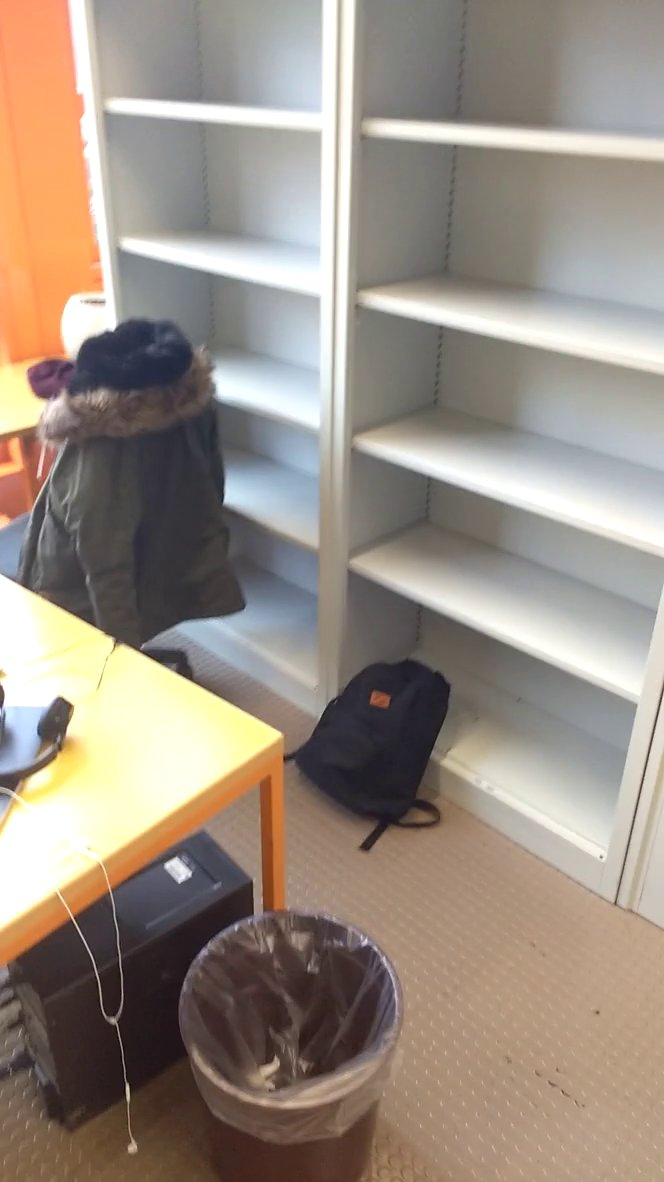bag: (281, 651, 457, 853)
bin: (173, 901, 410, 1182)
